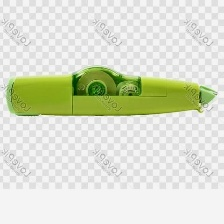correction_fluid: (5, 64, 220, 118)
